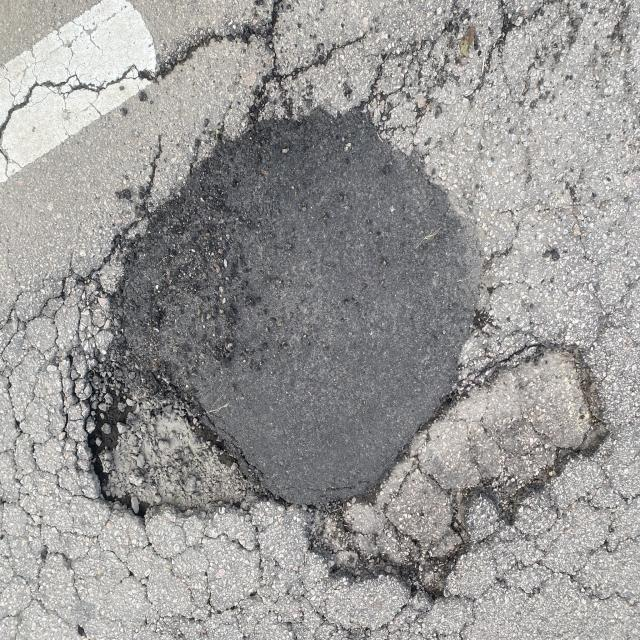Pothole: (76, 79, 624, 616)
